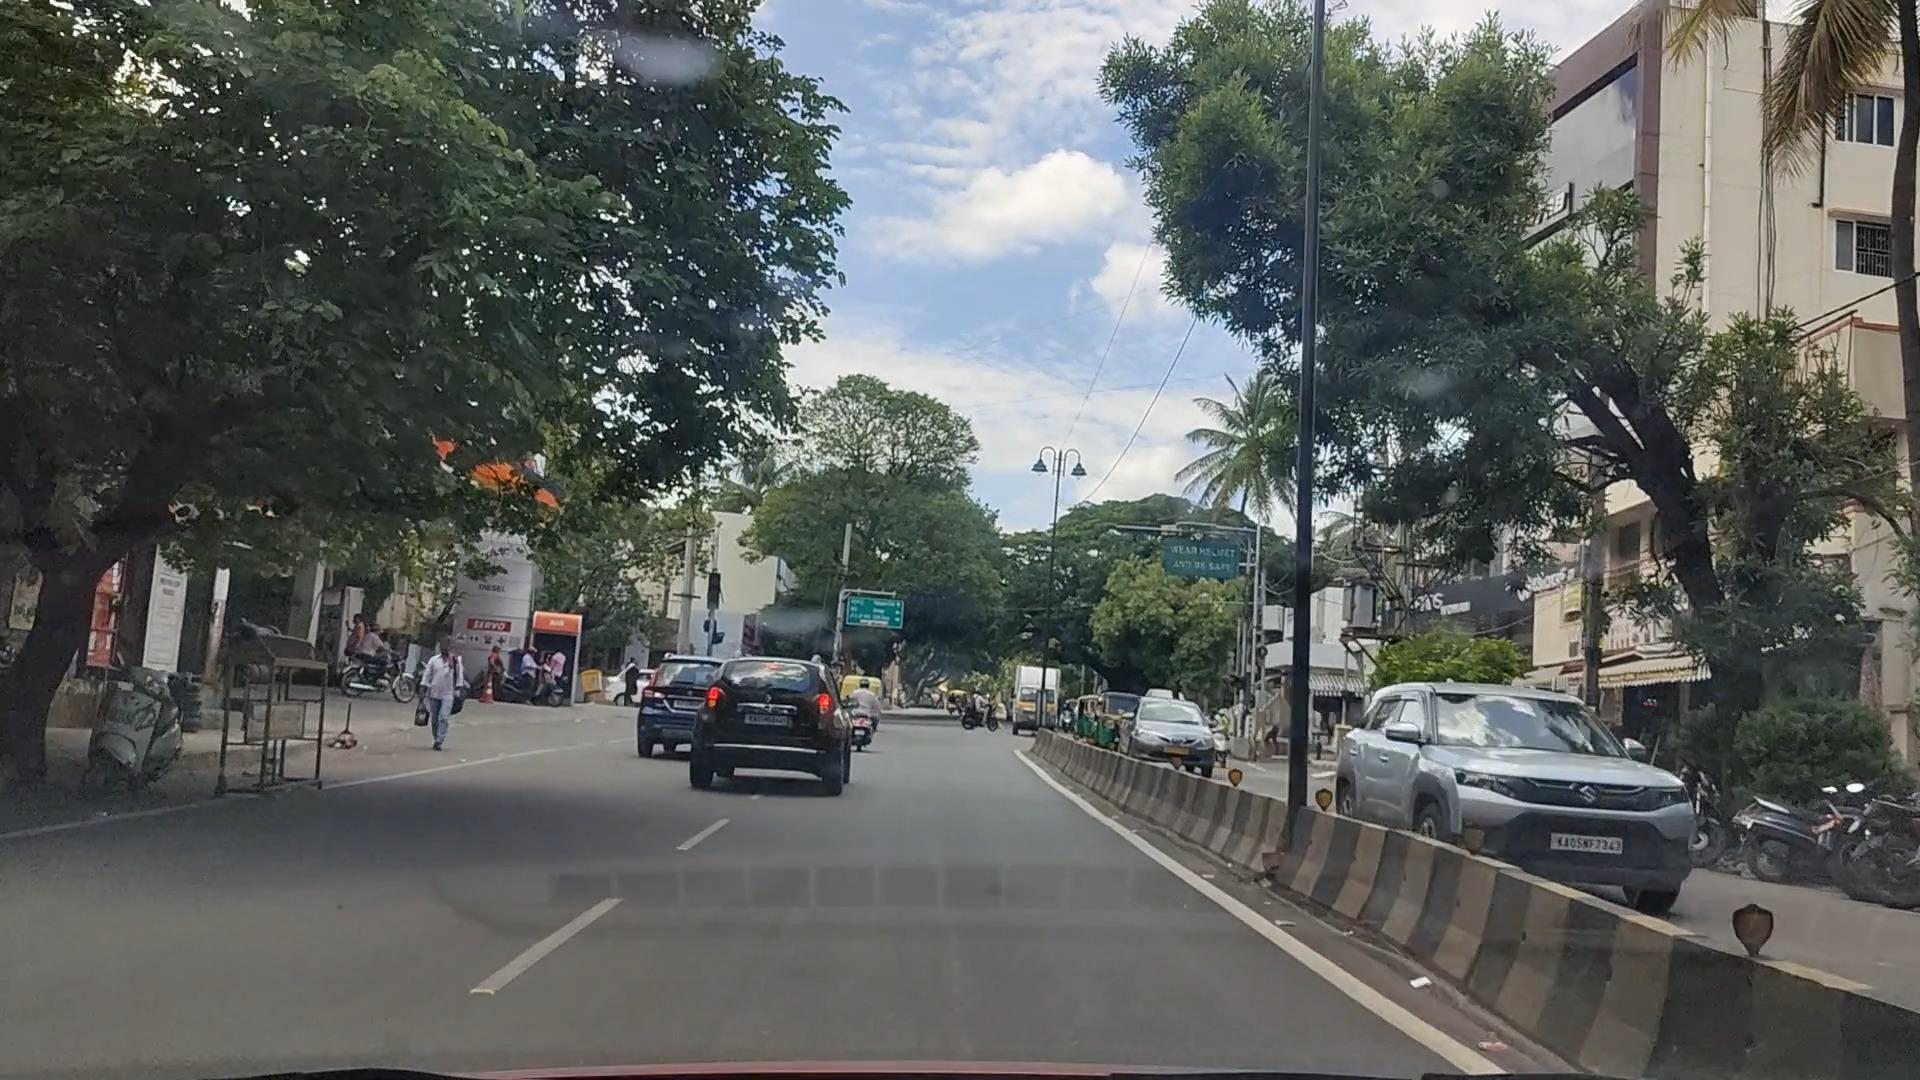LMV: (661, 655, 869, 816)
